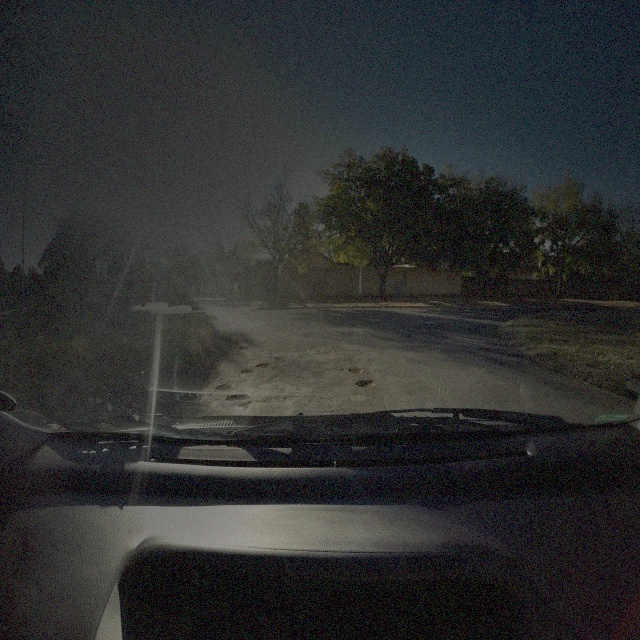pothole: (354, 378, 375, 390), (225, 393, 251, 402), (254, 360, 272, 370), (215, 382, 230, 392), (347, 365, 362, 374), (237, 344, 252, 352), (239, 368, 255, 375), (274, 355, 289, 361)
